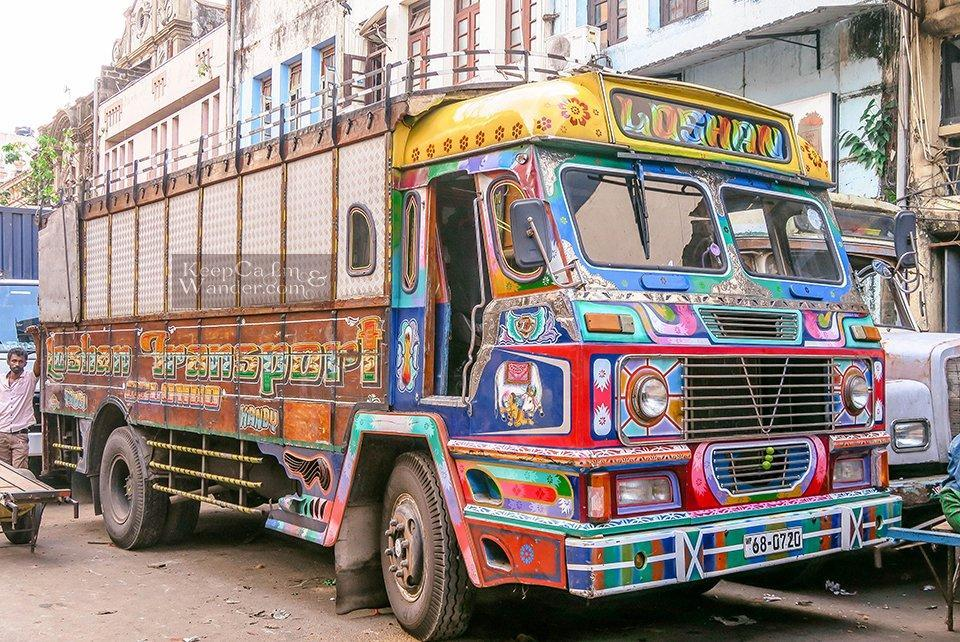truck: (39, 49, 914, 642)
